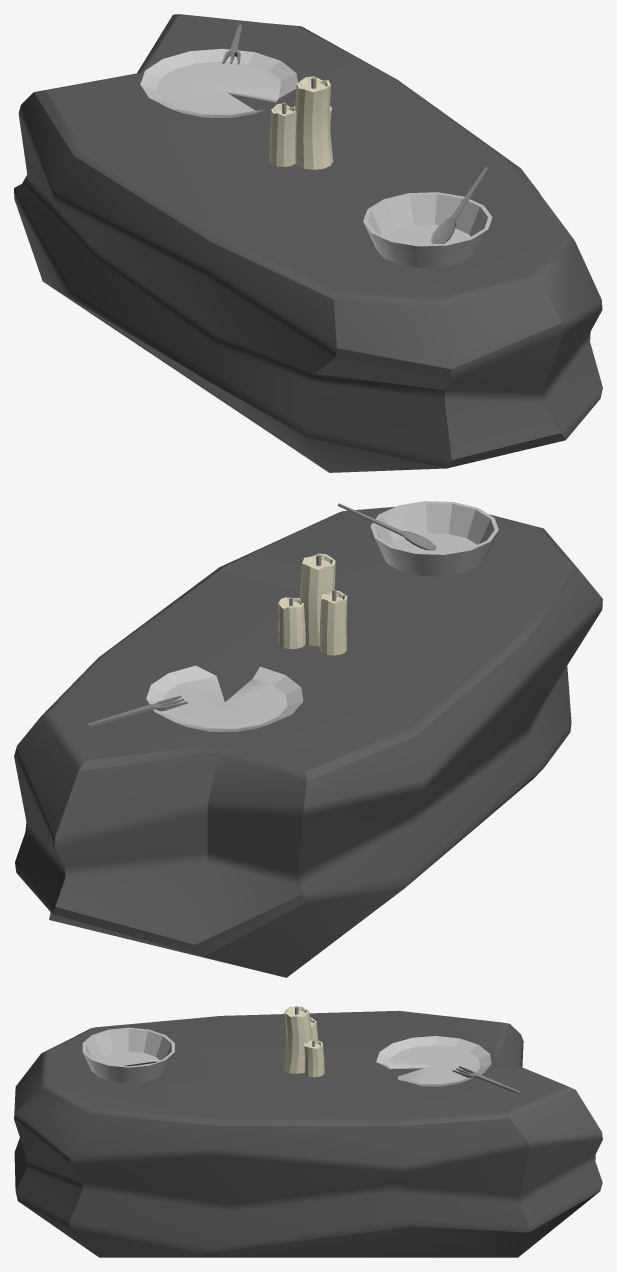
File: Mesa.fbx
The picture shows the model from 3 angles, top to bottom: view 1: azimuth 30°, elevation 25°; view 2: azimuth 150°, elevation 25°; view 3: azimuth 270°, elevation 25°; orthographic projection. The views are drawn at different scales.
Visible parts, largest first — view 1: Esc_Mesa:polySurface33; view 2: Esc_Mesa:polySurface33; view 3: Esc_Mesa:polySurface33.
Boxes of the visible parts, x1,y1,x2,y2 form: Esc_Mesa:polySurface33: [14, 14, 602, 472]; Esc_Mesa:polySurface33: [14, 501, 602, 977]; Esc_Mesa:polySurface33: [14, 1006, 602, 1257].
Size of the model in its own units: 346 by 269 by 690.
